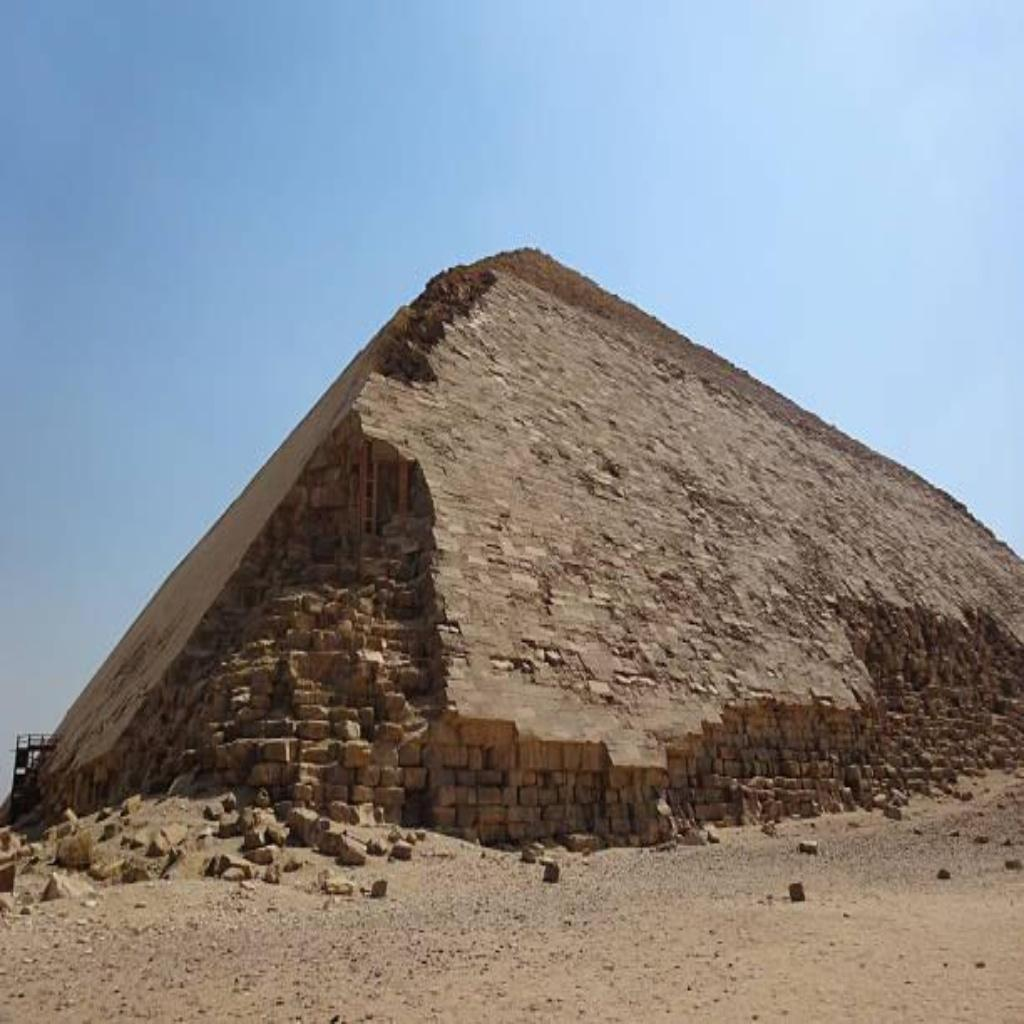Bent Pyramid of King Sneferu: (12, 238, 1020, 848)
